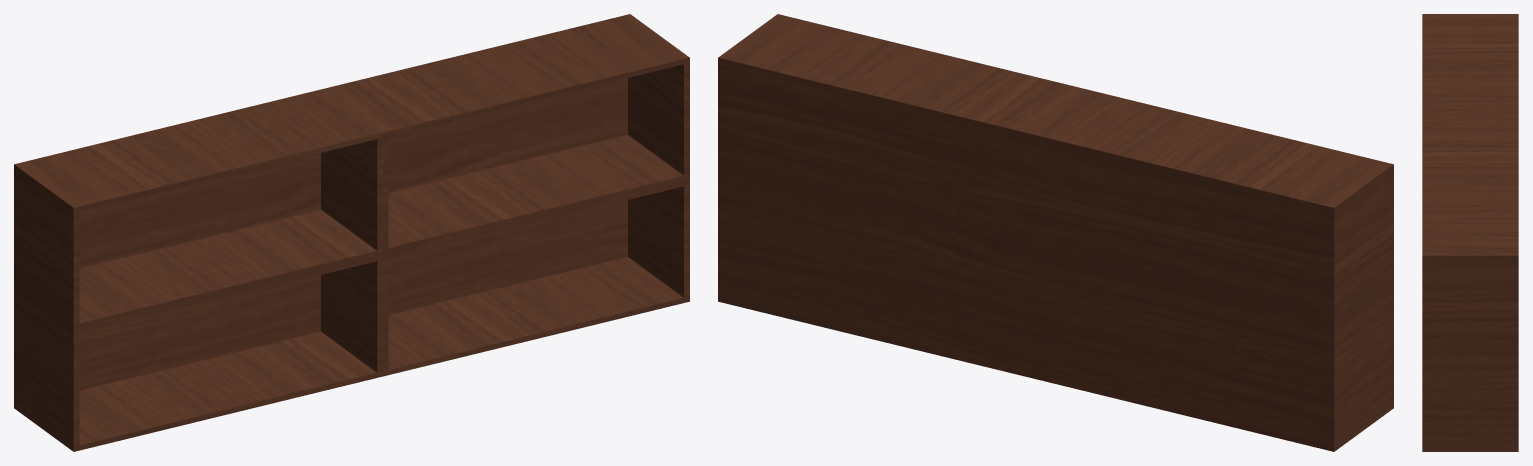
The model's file is FloorPlan303_physics-Shelf.glb.
The picture shows the model from 3 angles, left to right: view 1: azimuth 30°, elevation 25°; view 2: azimuth 150°, elevation 25°; view 3: azimuth 270°, elevation 25°; orthographic projection. The views are drawn at different scales.
Visible parts, largest first — view 1: Shelf; view 2: Shelf; view 3: Shelf.
Boxes of the visible parts, x1=… form: Shelf: x1=14, y1=14, x2=689, y2=451; Shelf: x1=718, y1=14, x2=1393, y2=451; Shelf: x1=1422, y1=14, x2=1518, y2=451.
Bounding box in the file's own units: 1.06 × 0.4024 × 0.1785.
1 material, 1 textured.
